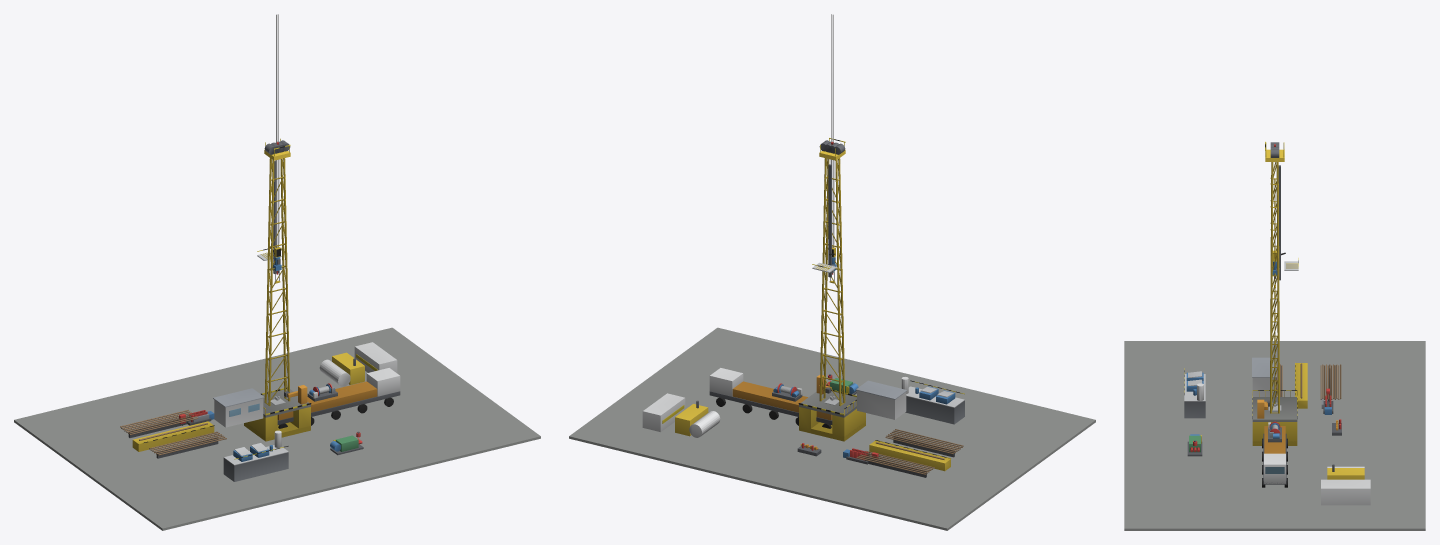
File: workover_high.glb
3 renders of one model, left to right at view 1: azimuth 30°, elevation 25°; view 2: azimuth 150°, elevation 25°; view 3: azimuth 270°, elevation 25°, orthographic.
Visible parts, largest first — view 1: site__pad, mast__mast, carrier__truck, pipehandling__racker, mast__doghouse, mudtanks__tanks, mast__substructure, pipehandling__catwalk, generators__vfd, mast__floor, block__travelling, generators__gensets; view 2: site__pad, mast__mast, carrier__truck, pipehandling__racker, mast__doghouse, mast__substructure, mudtanks__tanks, generators__vfd, pipehandling__catwalk, mast__floor, generators__gensets; view 3: site__pad, mast__mast, generators__vfd, carrier__truck, mast__floor, pipehandling__racker, mast__doghouse, mudtanks__tanks, mast__substructure, pipehandling__catwalk, generators__gensets.
Boxes of the visible parts, left/top/right/bottom form: site__pad: left=14, top=327, right=540, bottom=530; mast__mast: left=264, top=158, right=290, bottom=406; carrier__truck: left=277, top=368, right=400, bottom=428; pipehandling__racker: left=120, top=410, right=226, bottom=458; mast__doghouse: left=213, top=388, right=264, bottom=427; mudtanks__tanks: left=223, top=445, right=288, bottom=481; mast__substructure: left=244, top=407, right=310, bottom=441; pipehandling__catwalk: left=132, top=421, right=214, bottom=451; generators__vfd: left=354, top=342, right=397, bottom=372; mast__floor: left=261, top=388, right=311, bottom=417; block__travelling: left=274, top=14, right=280, bottom=257; generators__gensets: left=332, top=352, right=364, bottom=384; site__pad: left=569, top=327, right=1095, bottom=530; mast__mast: left=819, top=158, right=845, bottom=406; carrier__truck: left=709, top=368, right=832, bottom=428; pipehandling__racker: left=856, top=429, right=963, bottom=477; mast__doghouse: left=856, top=380, right=907, bottom=419; mast__substructure: left=799, top=407, right=865, bottom=441; mudtanks__tanks: left=905, top=380, right=964, bottom=424; generators__vfd: left=642, top=393, right=685, bottom=432; pipehandling__catwalk: left=869, top=440, right=951, bottom=471; mast__floor: left=798, top=390, right=856, bottom=417; generators__gensets: left=675, top=400, right=708, bottom=436; site__pad: left=1124, top=341, right=1425, bottom=530; mast__mast: left=1270, top=162, right=1279, bottom=413; generators__vfd: left=1321, top=479, right=1370, bottom=505; carrier__truck: left=1262, top=426, right=1287, bottom=487; mast__floor: left=1252, top=390, right=1297, bottom=421; pipehandling__racker: left=1276, top=364, right=1341, bottom=402; mast__doghouse: left=1252, top=357, right=1276, bottom=396; mudtanks__tanks: left=1184, top=368, right=1205, bottom=418; mast__substructure: left=1252, top=422, right=1297, bottom=445; pipehandling__catwalk: left=1295, top=363, right=1307, bottom=408; generators__gensets: left=1327, top=464, right=1364, bottom=479.
Size of the model in its own units: 50 by 53.07 by 34.
